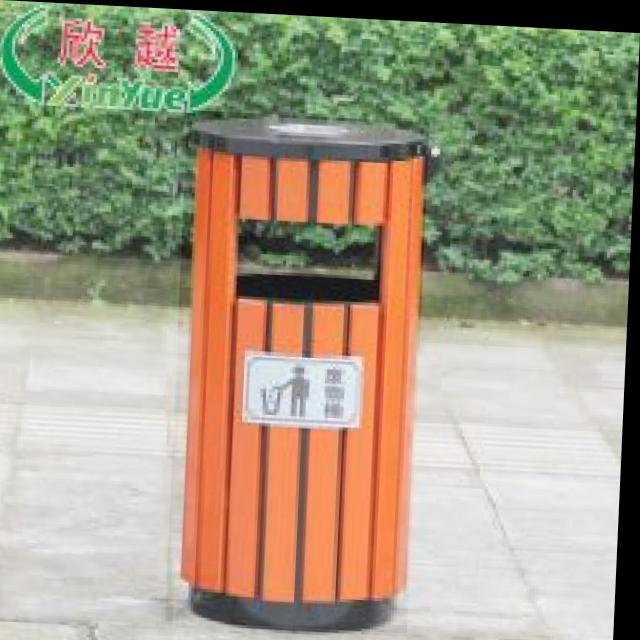garbage_bin: (170, 108, 431, 629)
